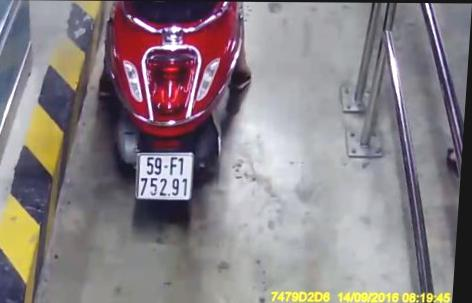License_Plate: (130, 149, 202, 208)
